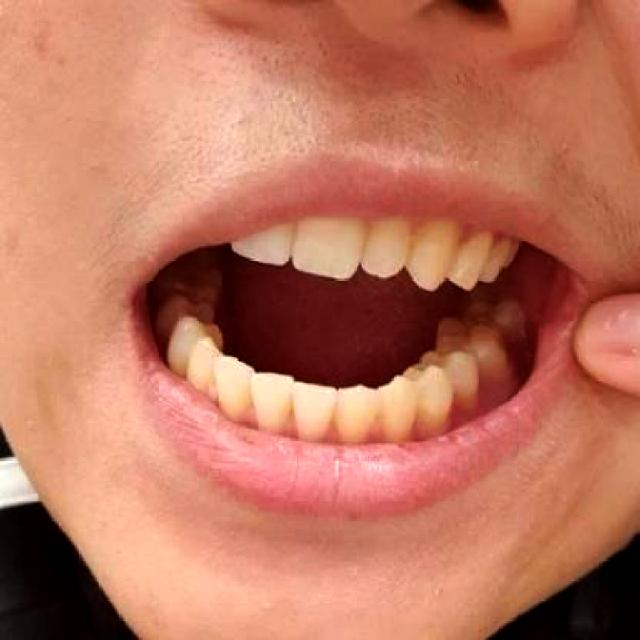Plaque: (464, 293, 516, 326), (442, 319, 497, 348)
